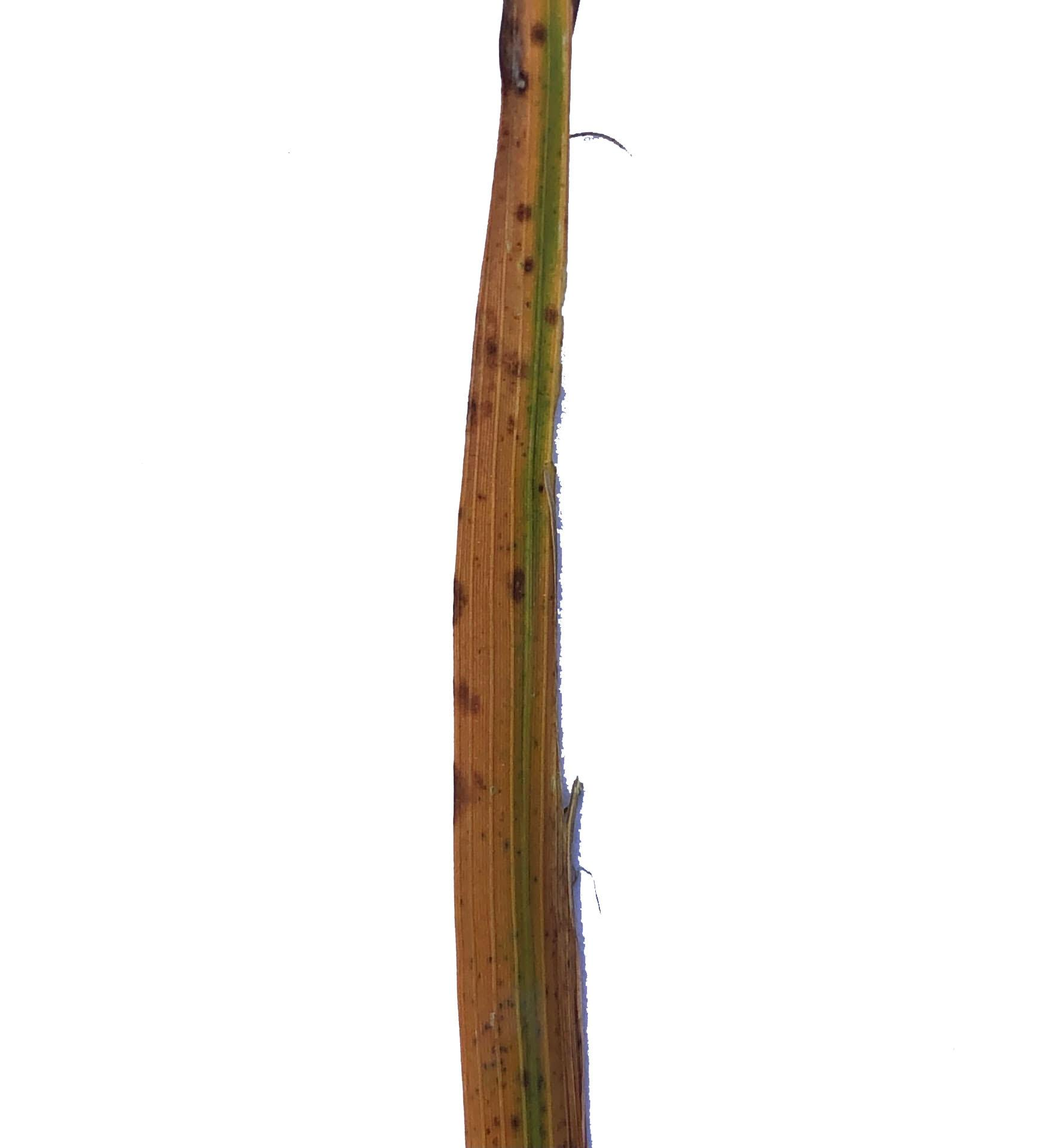Tungro: (451, 0, 595, 1148)
